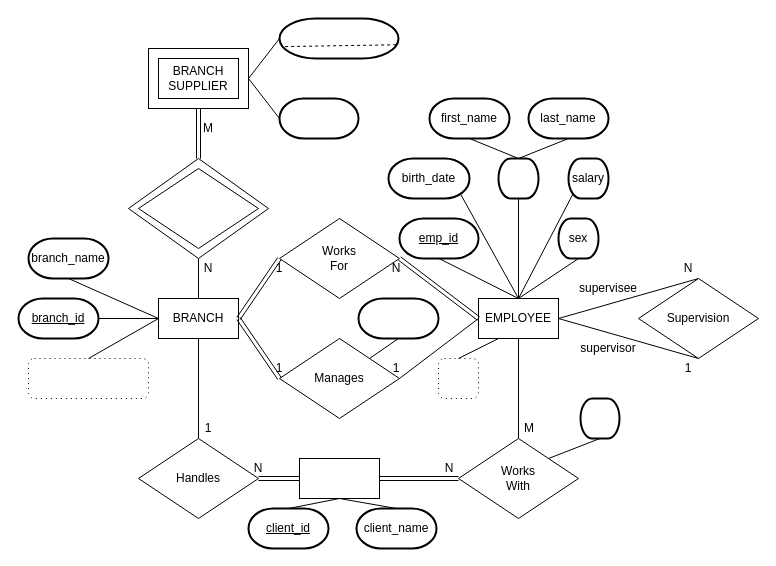
Image size: 776x566. Some labels were removed from this diagram. The shapes that lost their labels are listed below. From the top down, each one's centre as x and y in pixels, then its label:
the point at 338,38: supplier_name
the point at 318,118: supply_type
the point at 518,178: name
the point at 198,208: Supplies
the point at 398,318: start_date
the point at 88,378: number_employees
the point at 458,378: age
the point at 599,418: sales
the point at 339,478: CLIENT
